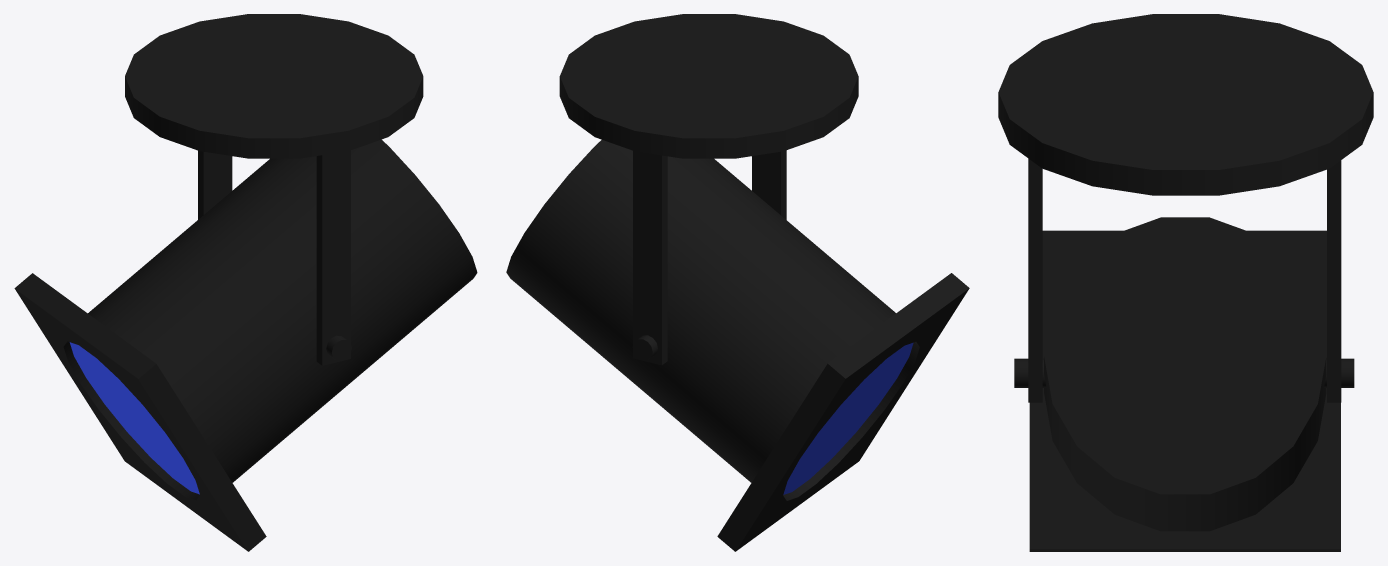
The model's file is lightBLUE.obj.
The picture shows the model from 3 angles, left to right: view 1: azimuth 30°, elevation 25°; view 2: azimuth 150°, elevation 25°; view 3: azimuth 270°, elevation 25°; orthographic projection. The views are drawn at different scales.
Visible parts, largest first — view 1: Cylinder007, Cylinder008, Box020, Box019, Box021; view 2: Cylinder007, Cylinder008, Box020, Box019, Box021; view 3: Cylinder007, Cylinder008, Box020, Box019, Cylinder009.
Part boxes in pixels (x1,y1,x2,y2): Cylinder007: [88, 139, 477, 482]; Cylinder008: [125, 14, 423, 158]; Box020: [14, 273, 266, 551]; Box019: [198, 150, 350, 365]; Box021: [69, 342, 199, 494]; Cylinder007: [506, 140, 895, 482]; Cylinder008: [559, 14, 858, 158]; Box020: [717, 273, 969, 551]; Box019: [633, 150, 786, 365]; Box021: [783, 342, 913, 494]; Cylinder007: [1044, 217, 1326, 531]; Cylinder008: [998, 14, 1373, 195]; Box020: [1029, 230, 1340, 551]; Box019: [1028, 158, 1341, 402]; Cylinder009: [1014, 358, 1354, 387].
Size of the model in its own units: 0.6179 by 0.6443 by 0.4263.
